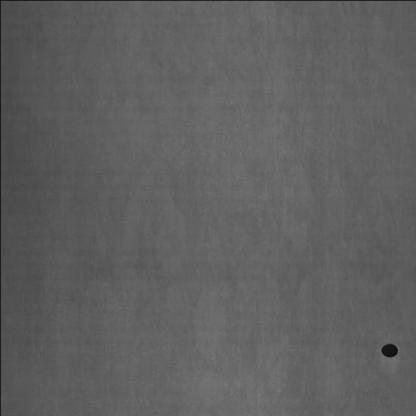punching_hole: (379, 340, 400, 358)
